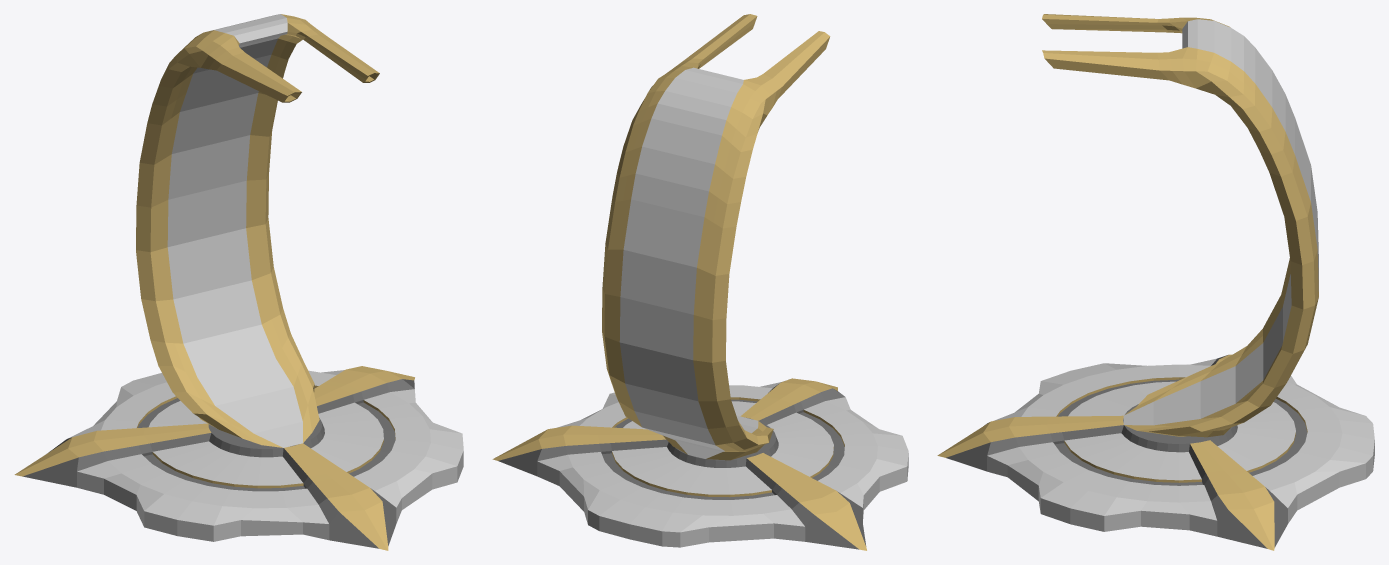
Rendered from turret.fbx.
3 views of the same model, side by side, from view 1: azimuth 30°, elevation 25°; view 2: azimuth 150°, elevation 25°; view 3: azimuth 270°, elevation 25° (orthographic). The views are drawn at different scales.
Parts seen in each view (by area): view 1: Cube, Cylinder; view 2: Cube, Cylinder; view 3: Cylinder, Cube.
Boxes of the visible parts, x1,y1,x2,y2 form: Cube: [136, 14, 379, 447]; Cylinder: [14, 366, 463, 550]; Cube: [602, 14, 830, 460]; Cylinder: [492, 378, 908, 550]; Cylinder: [937, 354, 1374, 550]; Cube: [1042, 14, 1318, 437].
Bounding box in the file's own units: 233 × 238 × 224.
